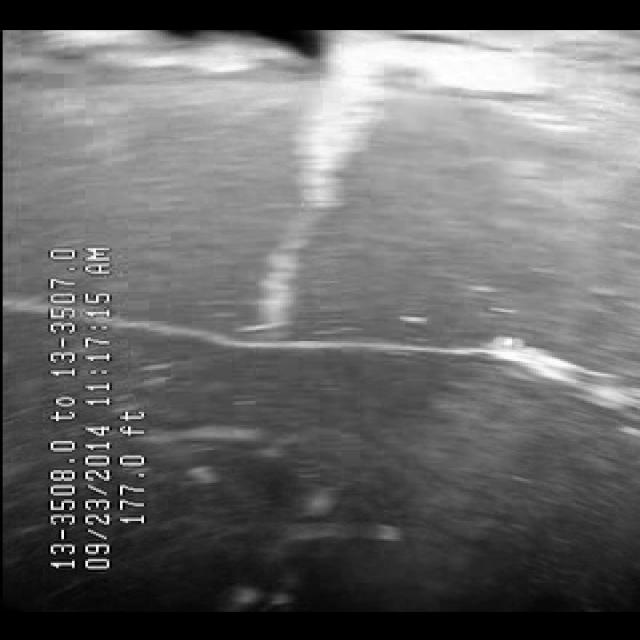Crack: (159, 109, 595, 401)
